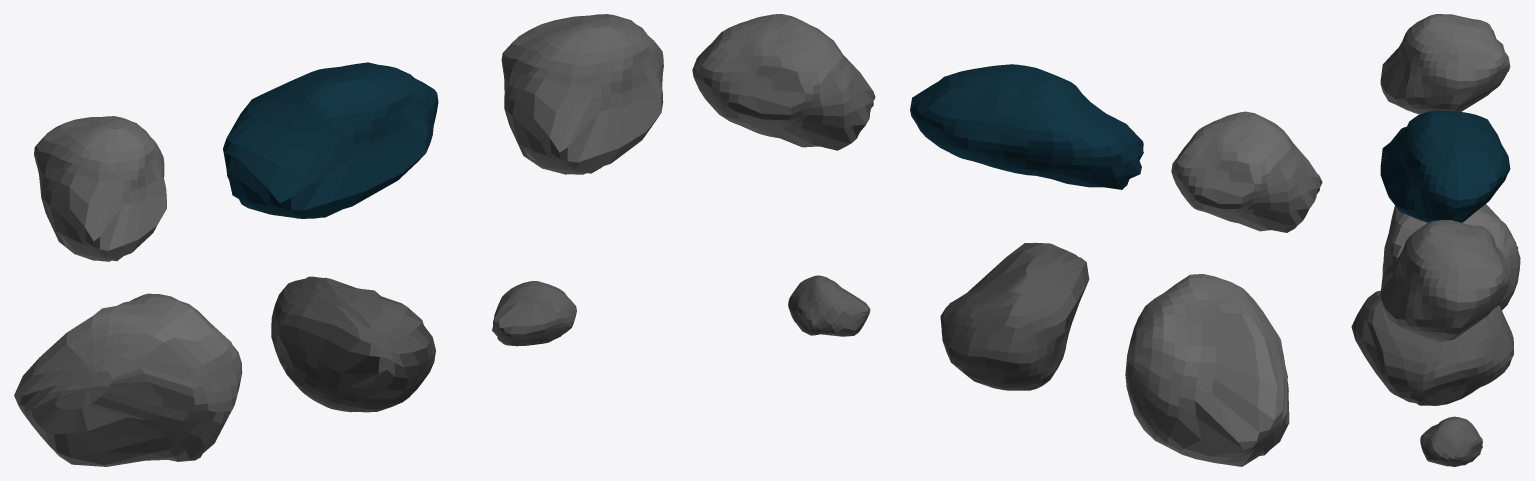
Rendered from rocasvarias.glb.
3 views of the same model, side by side, from view 1: azimuth 30°, elevation 25°; view 2: azimuth 150°, elevation 25°; view 3: azimuth 270°, elevation 25° (orthographic). The views are drawn at different scales.
Visible parts, largest first — view 1: Esfera.005, Esfera.003, Esfera.004, Esfera.001, Esfera.006, Esfera.002; view 2: Esfera.005, Esfera.003, Esfera.004, Esfera.001, Esfera.006, Esfera.002; view 3: Esfera.004, Esfera.003, Esfera.001, Esfera.006, Esfera.005, Esfera.002.
Boxes of the visible parts, box(x1,y1,x2,y2) form: Esfera.005: box(14, 293, 242, 466); Esfera.003: box(223, 62, 438, 218); Esfera.004: box(501, 14, 663, 174); Esfera.001: box(271, 276, 435, 412); Esfera.006: box(34, 116, 166, 261); Esfera.002: box(492, 281, 576, 346); Esfera.005: box(1125, 274, 1289, 466); Esfera.003: box(910, 64, 1143, 189); Esfera.004: box(692, 14, 875, 150); Esfera.001: box(940, 242, 1089, 390); Esfera.006: box(1171, 111, 1322, 232); Esfera.002: box(788, 275, 870, 336); Esfera.004: box(1380, 220, 1510, 342); Esfera.003: box(1380, 110, 1510, 222); Esfera.001: box(1351, 290, 1513, 405); Esfera.006: box(1380, 14, 1510, 114); Esfera.005: box(1382, 204, 1520, 309); Esfera.002: box(1420, 416, 1482, 466).
Bounding box in the file's own units: 18.65 × 10.07 × 5.25.
